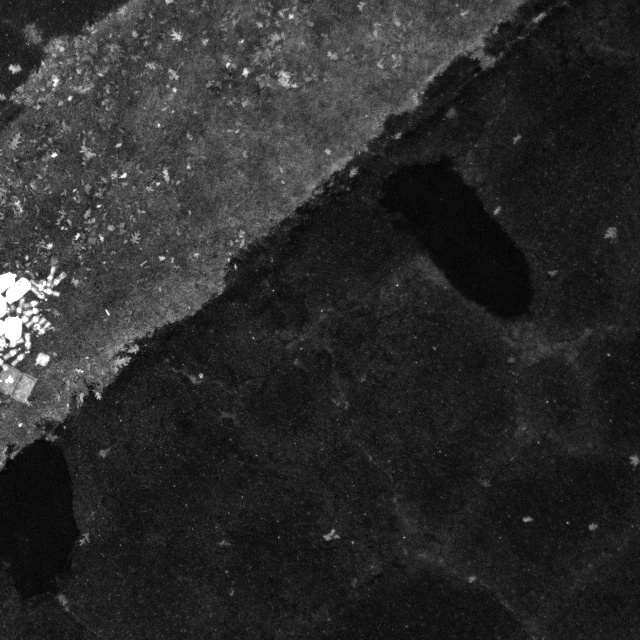bottle: (48, 269, 68, 289), (34, 320, 53, 338), (30, 285, 50, 302), (44, 265, 57, 288), (40, 287, 61, 298), (37, 278, 52, 288)
container: (35, 351, 51, 368)
